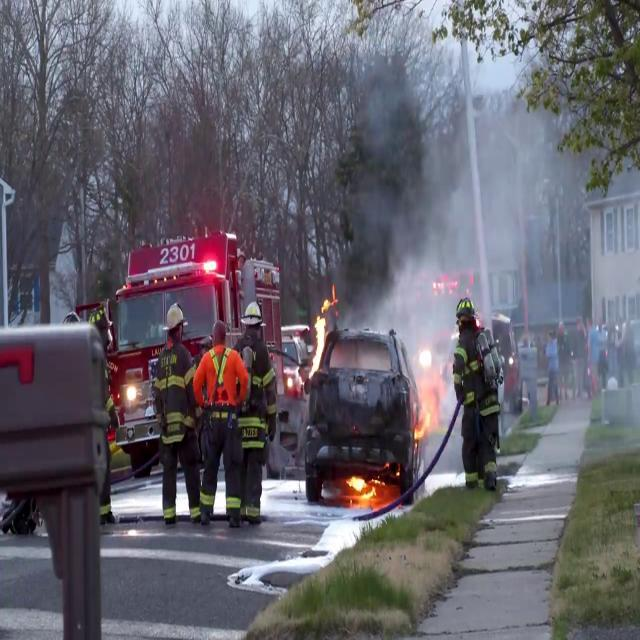Fire: (412, 350, 441, 440), (309, 294, 328, 382), (344, 468, 380, 508)
Smoke: (362, 36, 640, 376), (411, 346, 442, 436)
